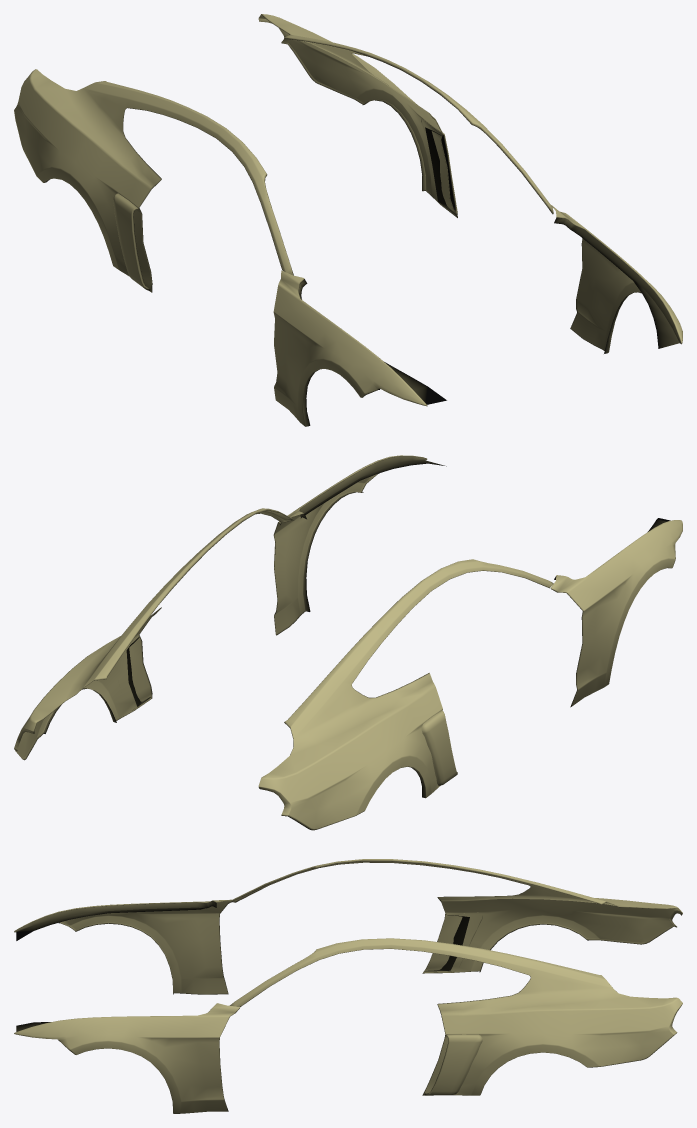
The model's file is Mustang16_Fender_04_Duco.fbx.
The picture shows the model from 3 angles, top to bottom: view 1: azimuth 30°, elevation 25°; view 2: azimuth 150°, elevation 25°; view 3: azimuth 270°, elevation 25°; orthographic projection. The views are drawn at different scales.
Visible parts, largest first — view 1: Mustang16_Fender_04_Duco; view 2: Mustang16_Fender_04_Duco; view 3: Mustang16_Fender_04_Duco.
Boxes of the visible parts, bbox=[...] form: Mustang16_Fender_04_Duco: bbox=[14, 14, 682, 426]; Mustang16_Fender_04_Duco: bbox=[14, 455, 682, 830]; Mustang16_Fender_04_Duco: bbox=[14, 859, 682, 1113].
Bounding box in the file's own units: 191 × 107 × 418.
